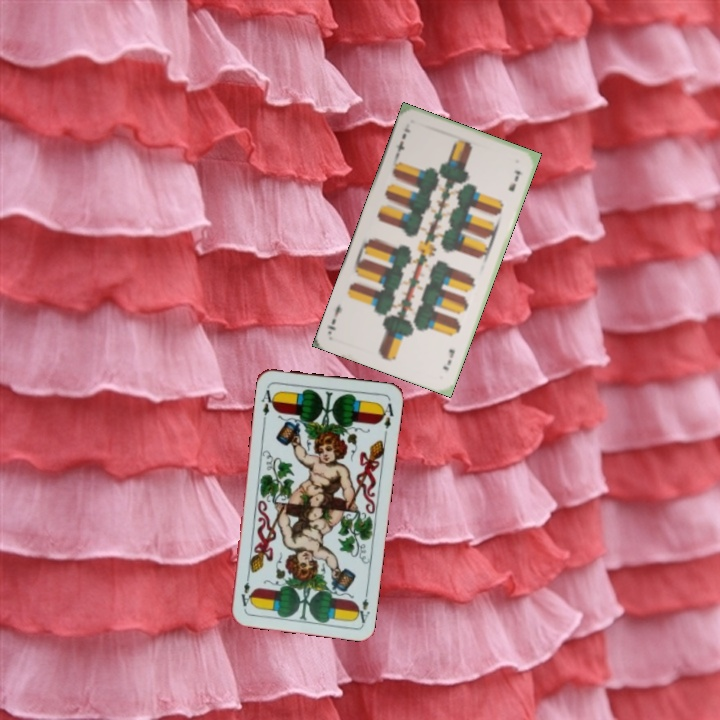E7: (391, 124, 413, 159), (439, 345, 458, 373)
EA: (257, 382, 278, 423), (351, 585, 372, 626)
